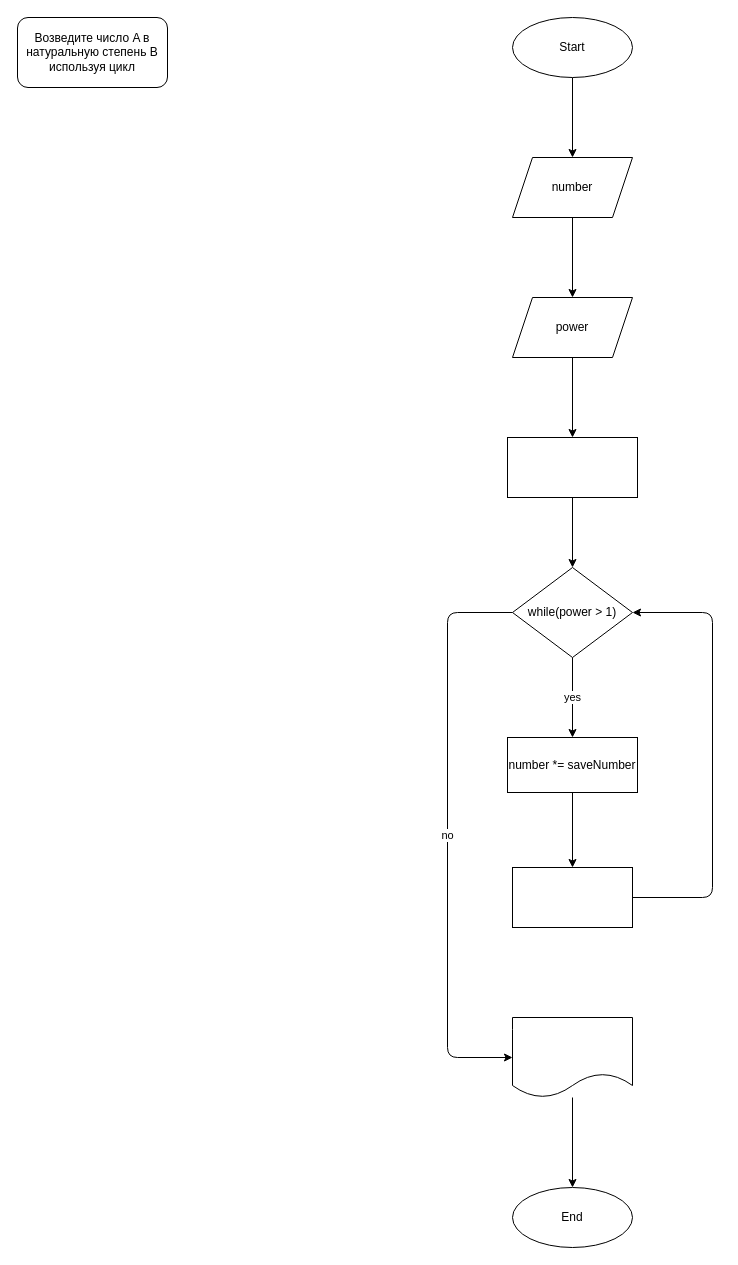
This 738x1265 diagram has some shape labels left out. Here are the shapes that lost their labels. From the top down, the centre of each, then its label:
pixel 572 467: saveNumber = number
pixel 572 897: power--
pixel 572 1057: Print number
